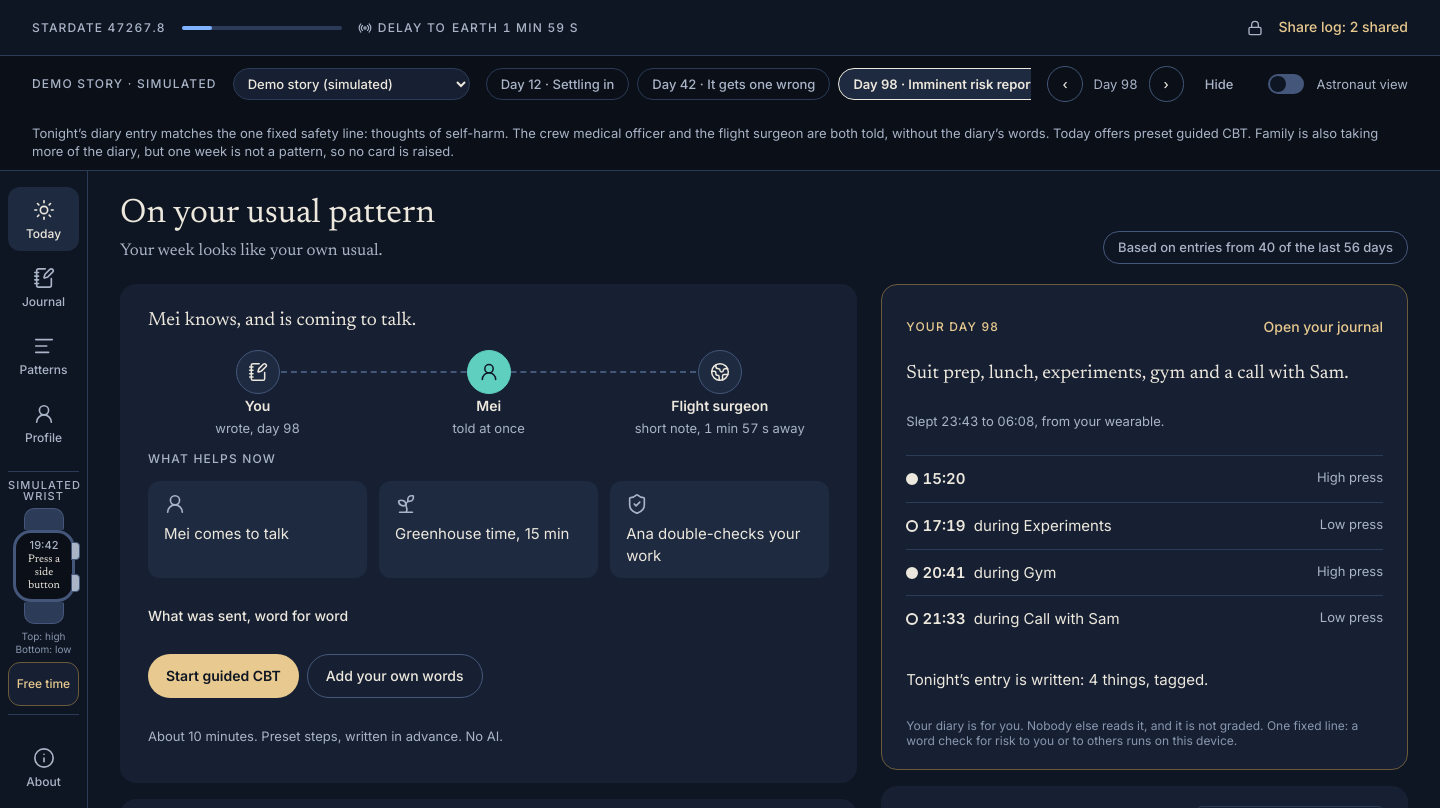
it: day 98: the imminent-risk alert sits on top, short, with the detail folded away
The image size is (1440, 808).
Click the switch named "Flight surgeon view" at (1286, 84), box [1268,74,1304,94]
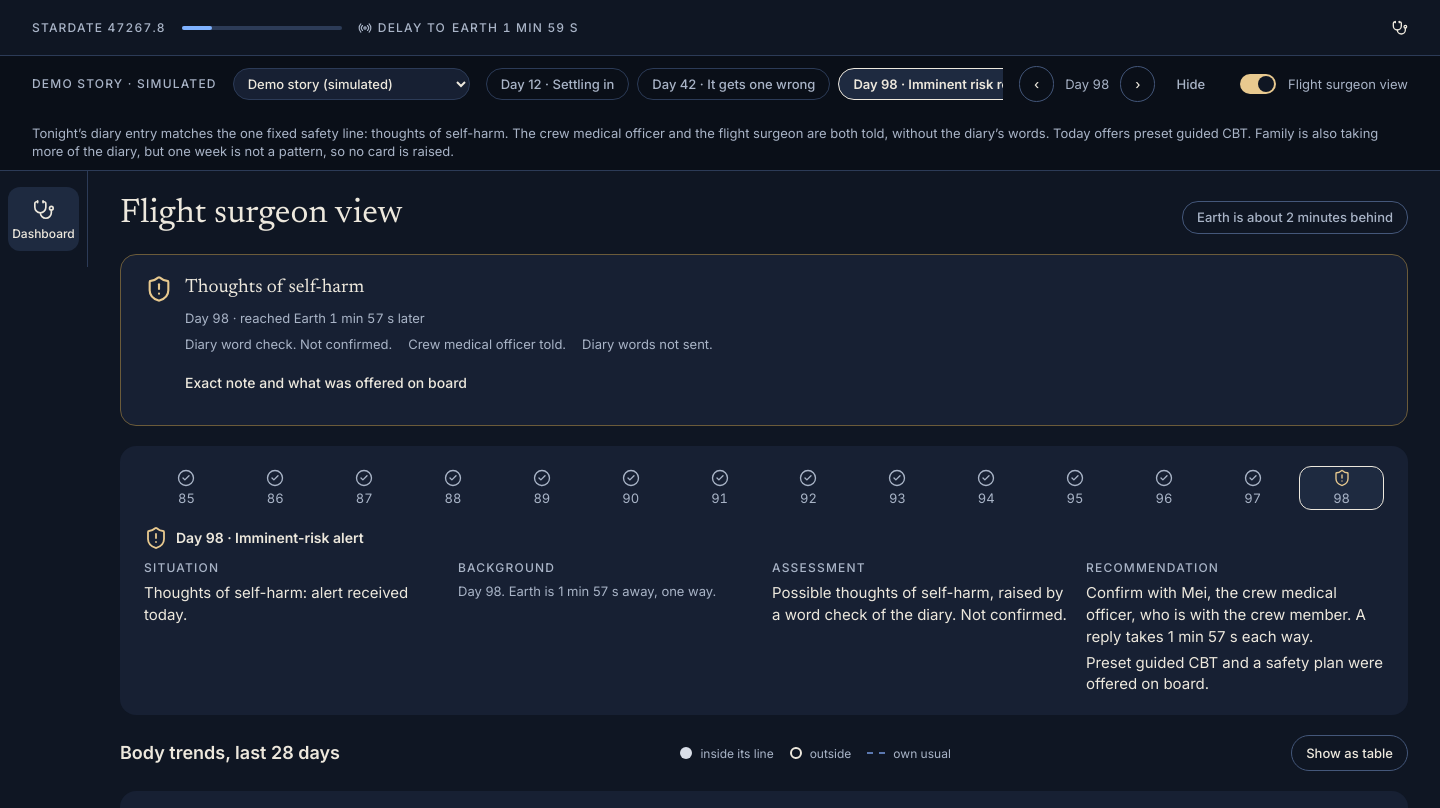
Expected: the 1st picture named "Imminent-risk alert" is shown, [145,276,173,304]
Expected: the text "Thoughts of self-harm" is shown, [185,276,364,301]
Expected: the text "Day 98 · reached Earth 1 min 57 s later" is shown, [185,309,425,327]
